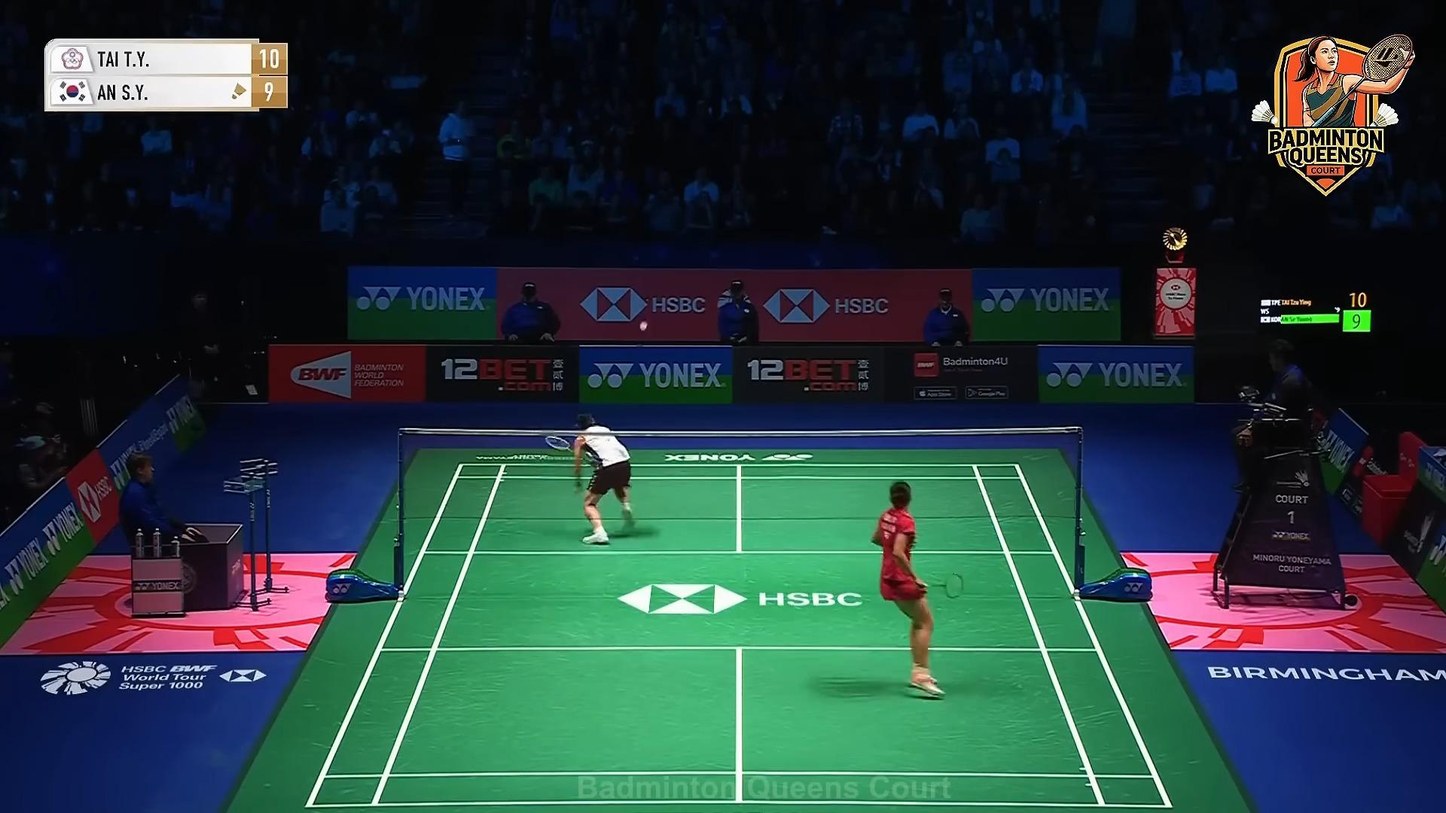player: (868, 482, 945, 699), (572, 413, 633, 546)
